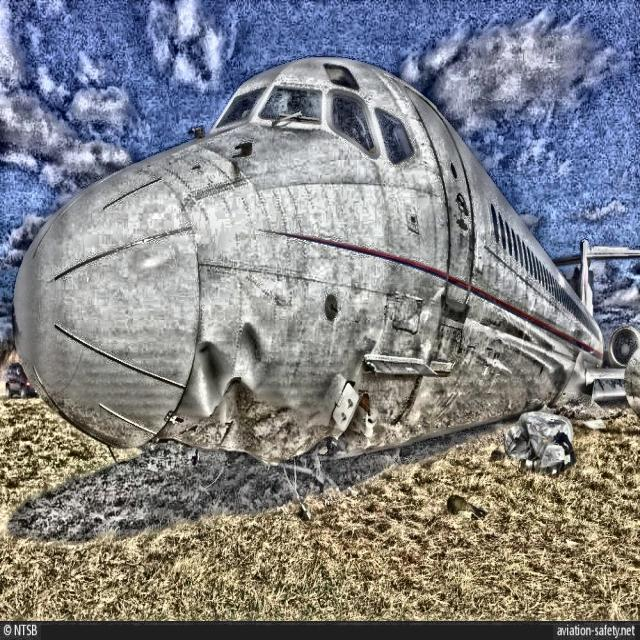dent: (198, 343, 229, 411), (236, 324, 264, 387)
